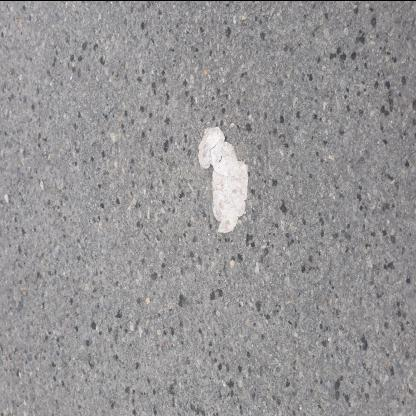diger: (186, 199, 292, 250)
